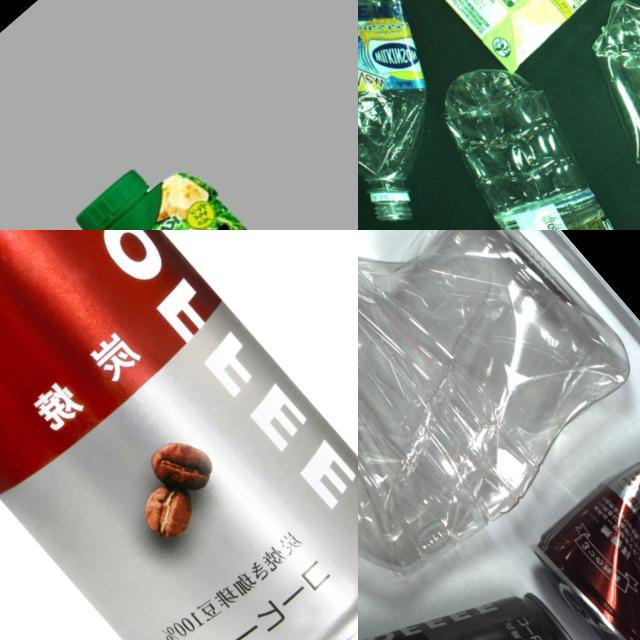Aluminium Foil: (31, 130, 351, 230), (358, 0, 640, 78)
Can: (0, 230, 358, 640), (358, 535, 640, 640), (523, 403, 640, 640)
Transparent Plastic Bottle: (358, 230, 640, 635), (402, 47, 640, 230), (358, 0, 519, 230), (533, 0, 640, 230)
